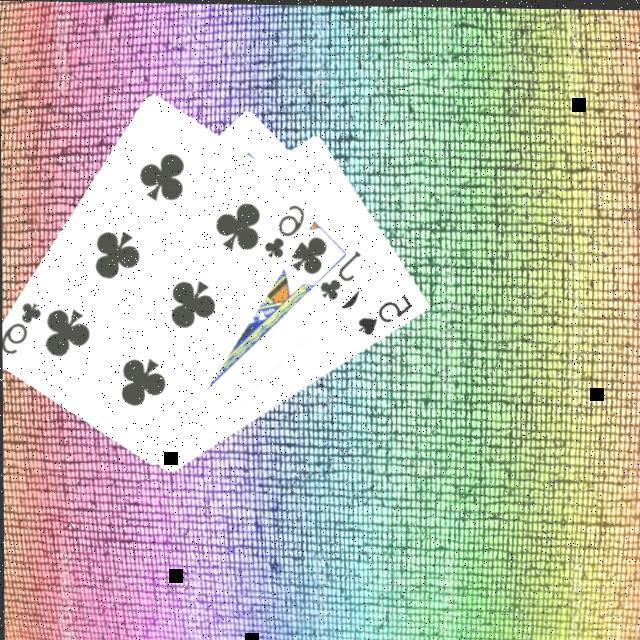5S: (356, 291, 417, 340)
6C: (262, 200, 310, 262), (2, 299, 46, 359)
JC: (318, 246, 366, 305)
